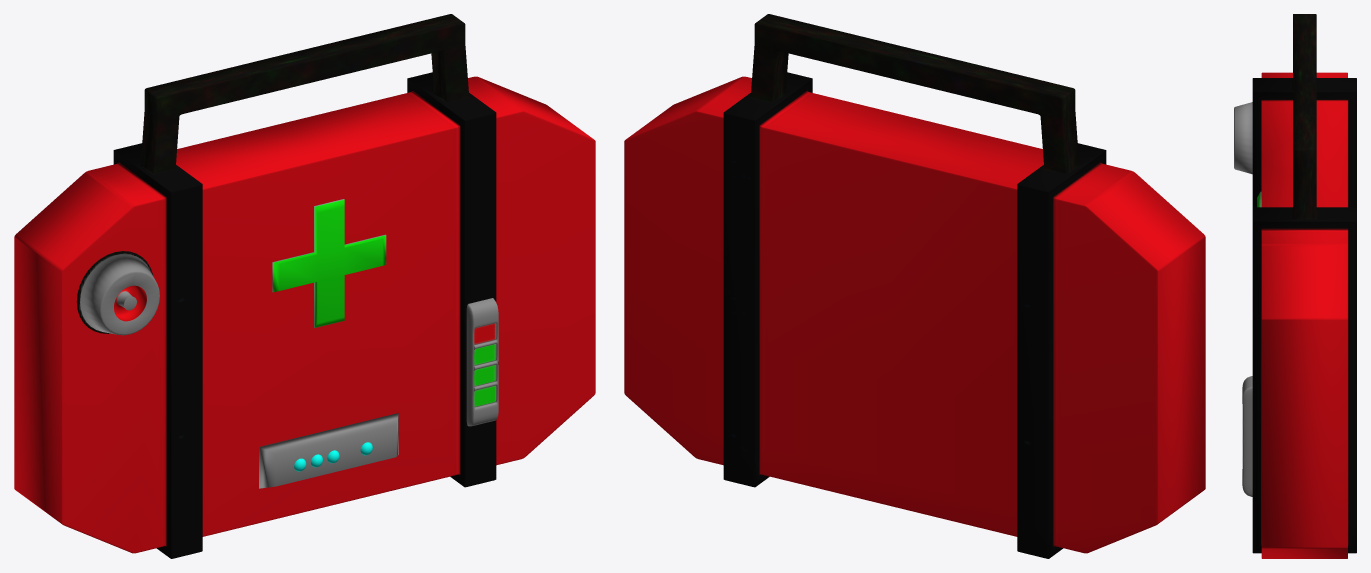
The model's file is sci-fi_first_aid_kit.glb.
The picture shows the model from 3 angles, left to right: view 1: azimuth 30°, elevation 25°; view 2: azimuth 150°, elevation 25°; view 3: azimuth 270°, elevation 25°; orthographic projection. The views are drawn at different scales.
Parts seen in each view (by area): view 1: First Aid Kit; view 2: First Aid Kit; view 3: First Aid Kit.
Part boxes in pixels (<box>): First Aid Kit: <box>14,14,595,558</box>; First Aid Kit: <box>624,14,1205,558</box>; First Aid Kit: <box>1234,14,1356,558</box>.
Bounding box in the file's own units: 0.3527 × 0.2795 × 0.0777.
Materials: 1 (1 with a texture image).
